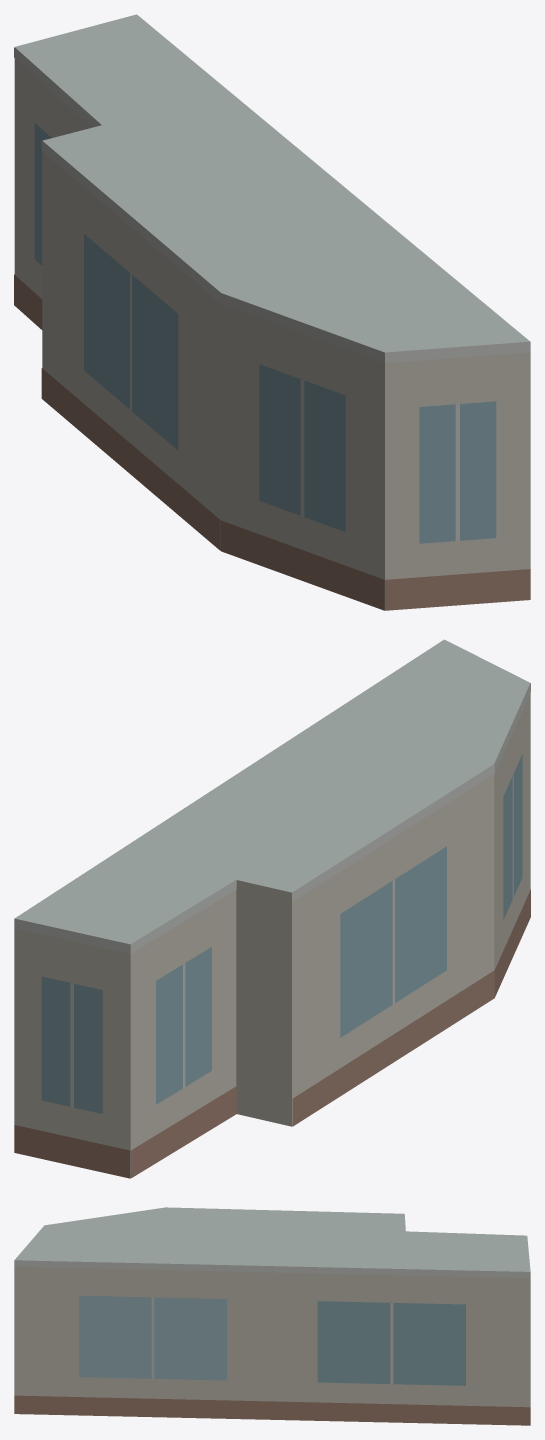
The model's file is survey-upis-32595448.glb.
3 renders of one model, top to bottom at view 1: azimuth 30°, elevation 25°; view 2: azimuth 150°, elevation 25°; view 3: azimuth 270°, elevation 25°, orthographic. The views are drawn at different scales.
Parts seen in each view (by area): view 1: survey-upis-32595448.tmp; view 2: survey-upis-32595448.tmp; view 3: survey-upis-32595448.tmp.
Boxes of the visible parts, left/top/right/bottom form: survey-upis-32595448.tmp: left=14, top=14, right=530, bottom=610; survey-upis-32595448.tmp: left=14, top=639, right=530, bottom=1178; survey-upis-32595448.tmp: left=14, top=1207, right=530, bottom=1425.
Size of the model in its own units: 2.76 by 3.05 by 9.3.
